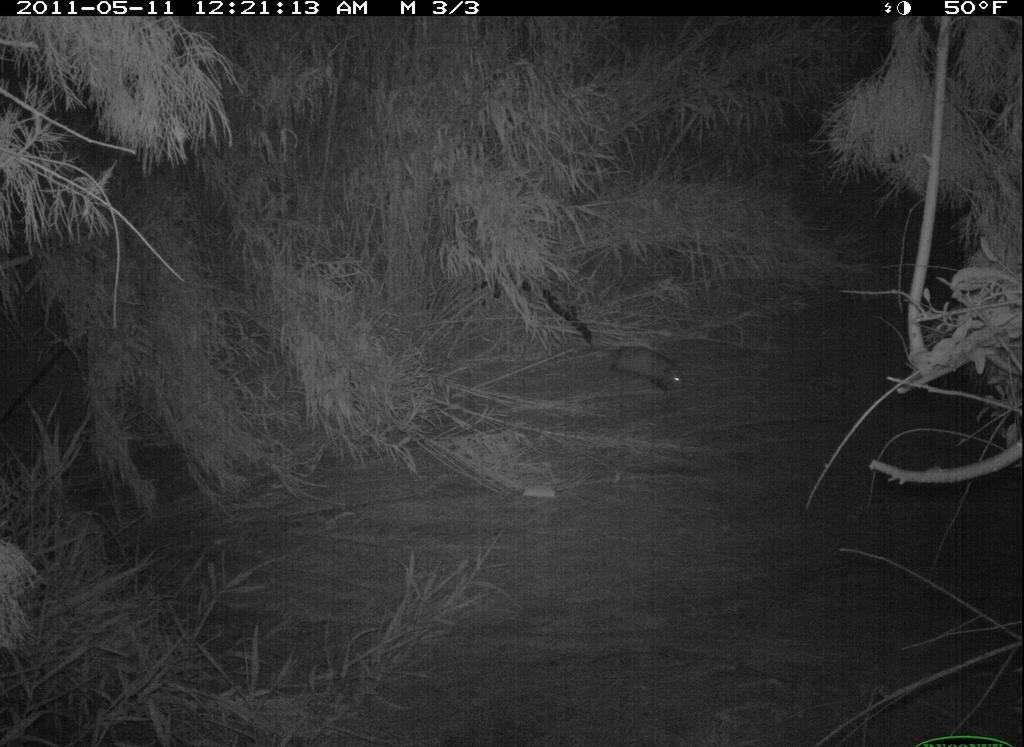opossum: (605, 333, 694, 403)
